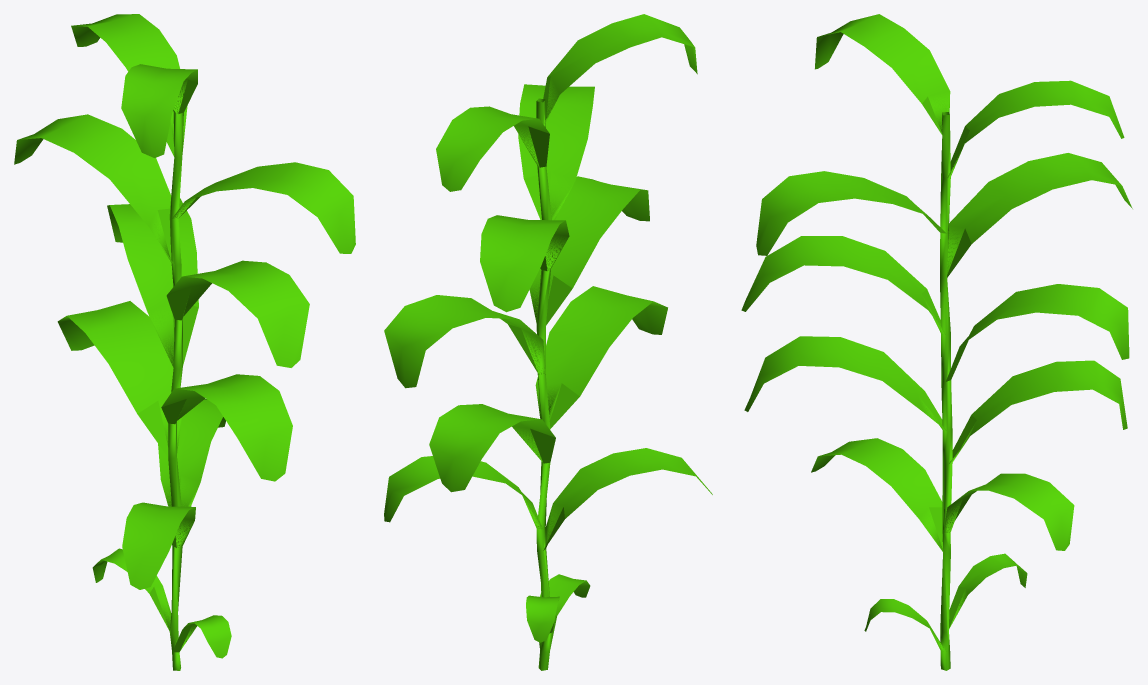
The model's file is corn_03.fbx.
3 renders of one model, left to right at view 1: azimuth 30°, elevation 25°; view 2: azimuth 150°, elevation 25°; view 3: azimuth 270°, elevation 25°, orthographic. The views are drawn at different scales.
Parts seen in each view (by area): view 1: Cube; view 2: Cube; view 3: Cube.
Part boxes in pixels (<box>): Cube: <box>14,14,355,670</box>; Cube: <box>384,14,712,670</box>; Cube: <box>741,14,1132,670</box>.
Bounding box in the file's own units: 61.4 × 174 × 100.
